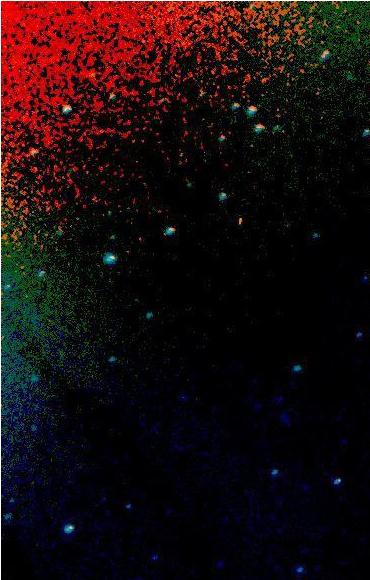star: (18, 470, 48, 500)
